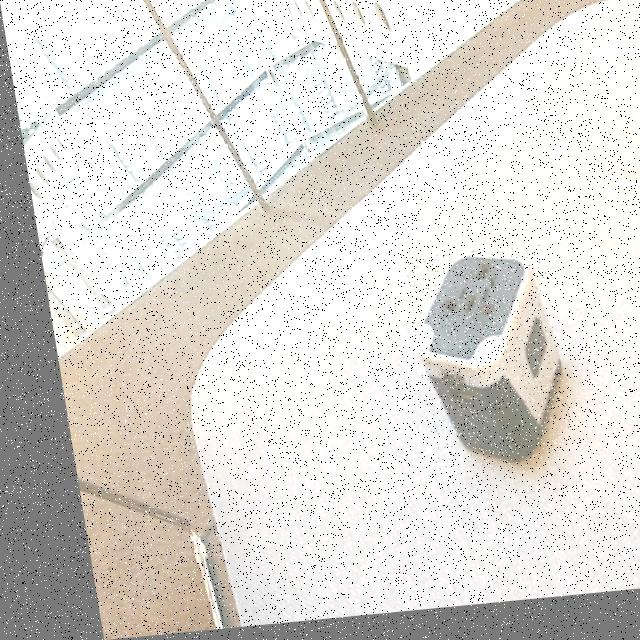adapter: (391, 255, 559, 477)
